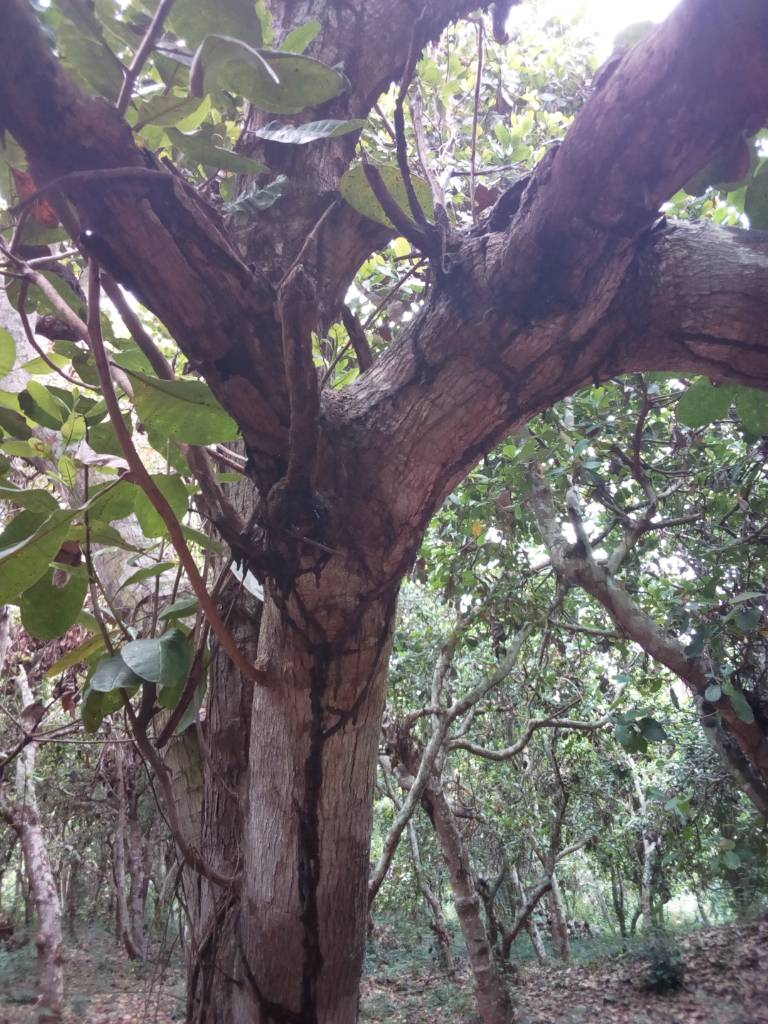Termites: (296, 617, 329, 1016)
